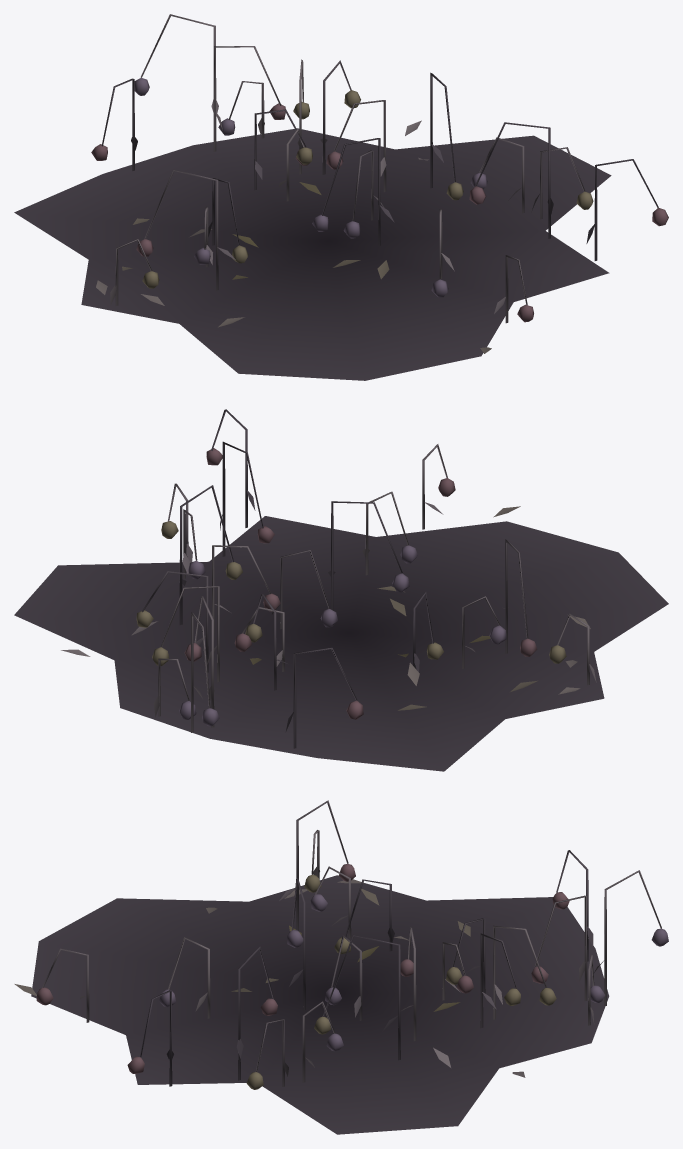
File: blight_withered_patch.glb
3 views of the same model, one above another, from view 1: azimuth 30°, elevation 25°; view 2: azimuth 150°, elevation 25°; view 3: azimuth 270°, elevation 25° (orthographic). The views are drawn at different scales.
Parts seen in each view (by area): view 1: blight_withered_patch; view 2: blight_withered_patch; view 3: blight_withered_patch.
Boxes of the visible parts, <box> form: blight_withered_patch: <box>14,14,668,380</box>; blight_withered_patch: <box>14,409,668,771</box>; blight_withered_patch: <box>14,800,668,1134</box>.
Size of what is drawn, in the model's own units: 2 by 0.442 by 2.14.
